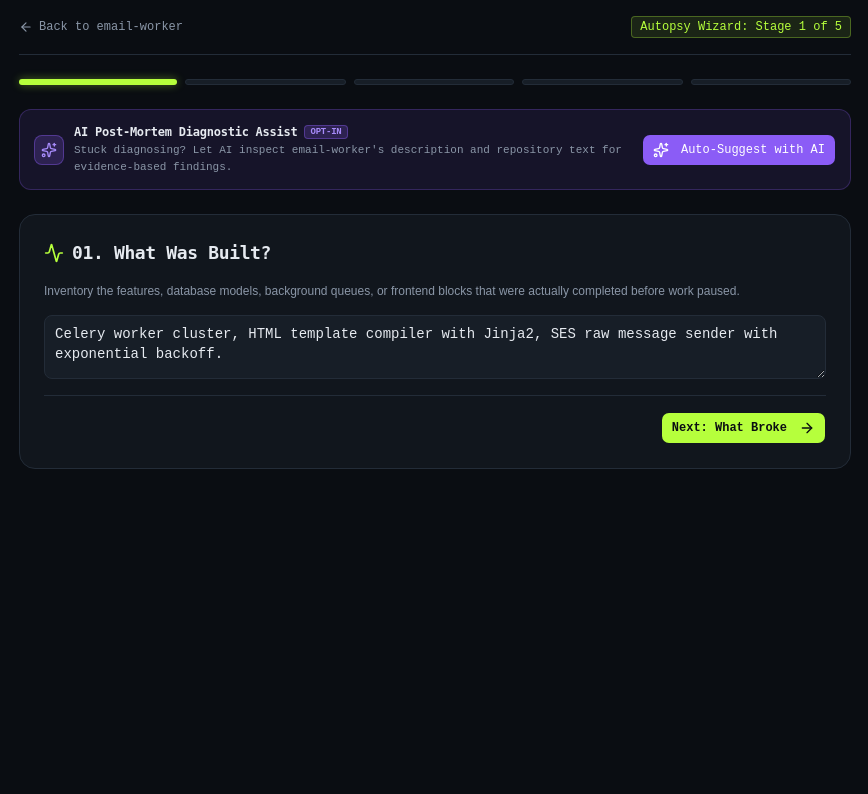
AutopsyWizardPage - Evidence-based AI Diagnostic Assist › applies only whatWasBuilt and whatBroke to form, never score-altering fields
Click the button "Auto-Suggest with AI" at coordinates (739, 150), box [642,134,836,166]
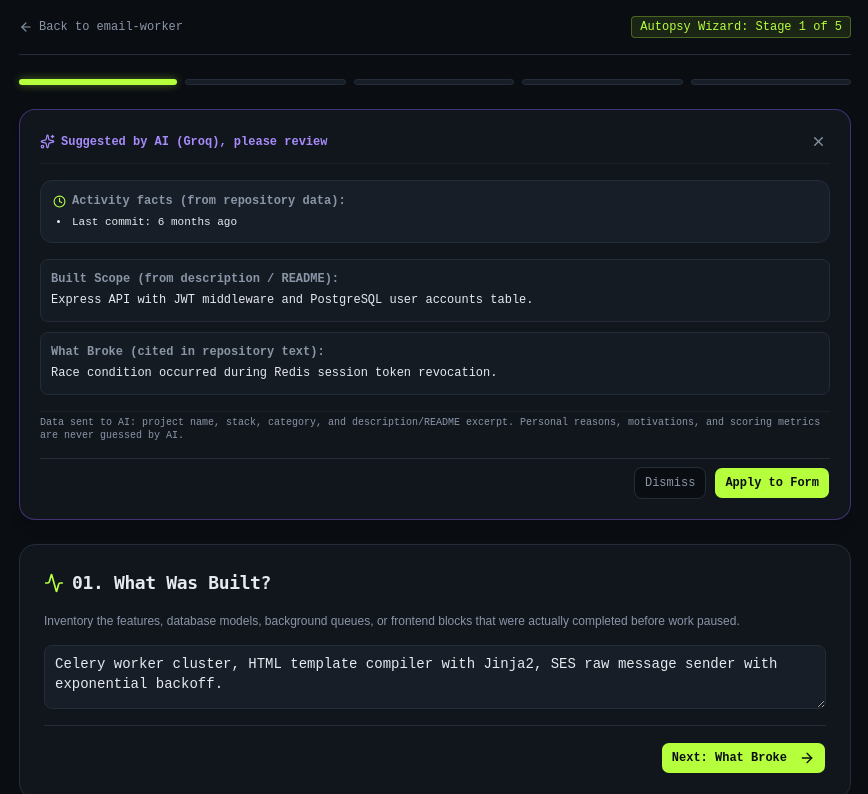
Click the button "Apply to Form" at coordinates (772, 483), box [714,467,830,499]
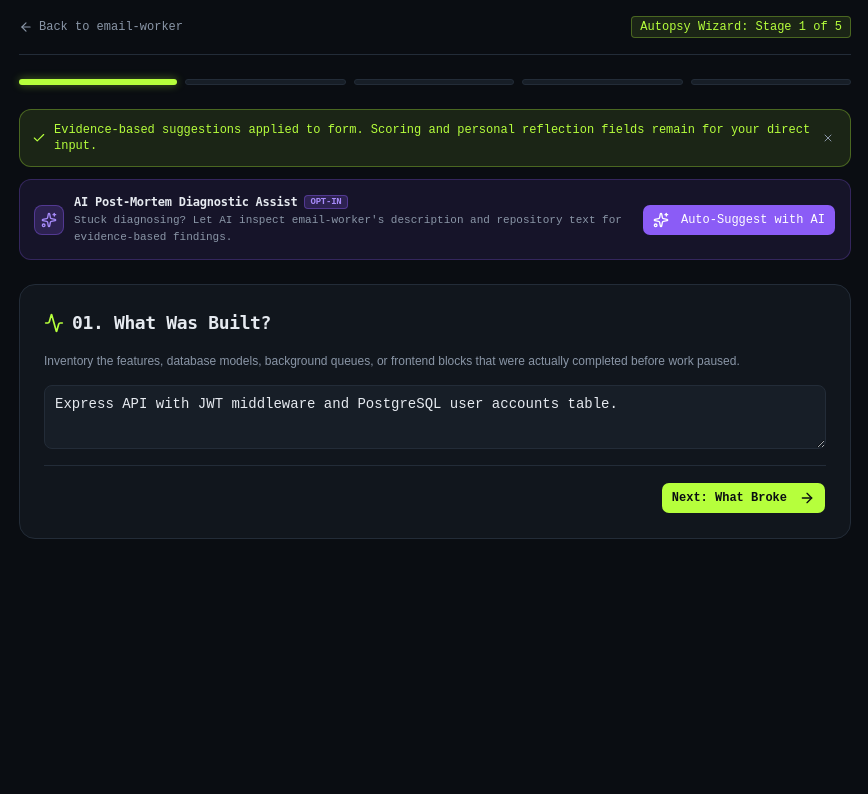
Expected: the text "Evidence-based suggestions applied to form" is shown, [54,123,810,153]
Expected: the text box with placeholder "e.g. Express server with JWT" holds "Express API with JWT middleware and PostgreSQL user accounts table.", [44,385,826,449]
# Move to step 2 to verify whatBroke
Click the button "Next: What Broke" at coordinates (743, 498), box [661,482,826,514]
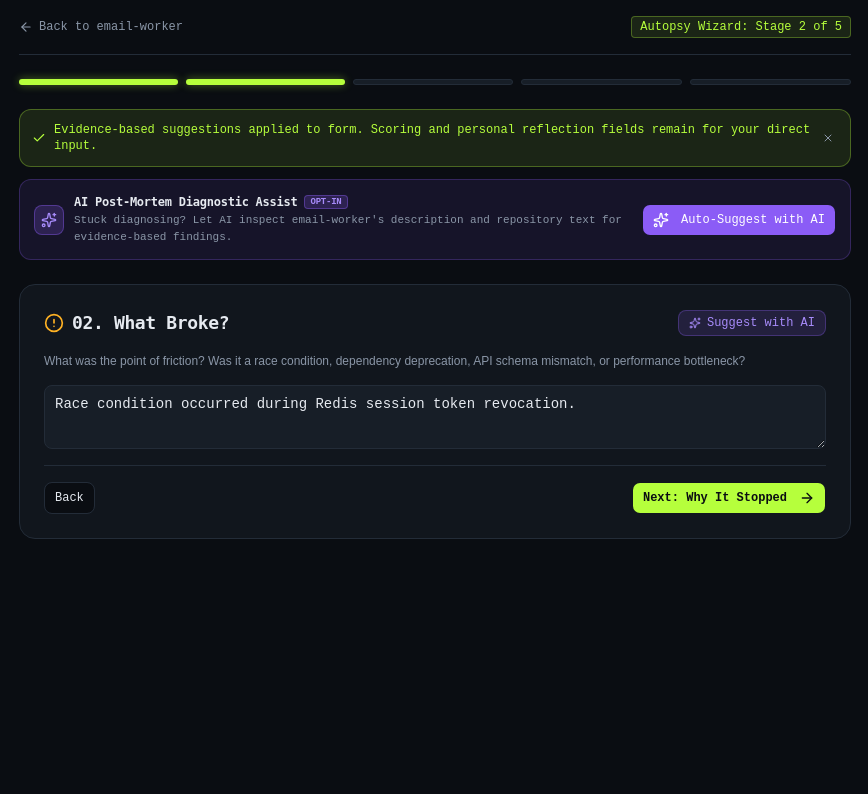
Expected: the text box with placeholder "e.g. Race condition during token refresh" holds "Race condition occurred during Redis session token revocation.", [44,385,826,449]
# Move to step 3 (Why stopped) - verify whyStopped was NOT overwritten by AI
Click the button "Next: Why It Stopped" at coordinates (729, 498), box [632,482,826,514]
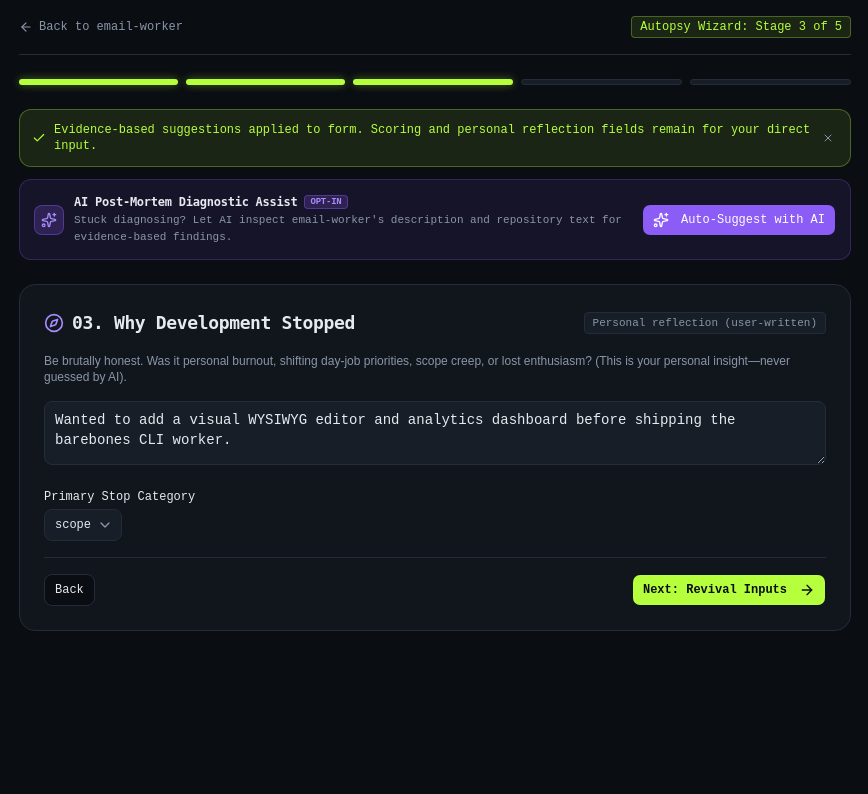
Expected: the text box with placeholder "e.g. Got overwhelmed debugging Redis" does not hold "Personal burnout", [44,401,826,465]
Expected: the text box with placeholder "e.g. Got overwhelmed debugging Redis" holds "Wanted to add a visual WYSIWYG editor and analytics dashboard before shipping the barebones CLI worker.", [44,401,826,465]
Expected: the text "Personal reflection (user-written)" is shown, [584,312,826,334]
